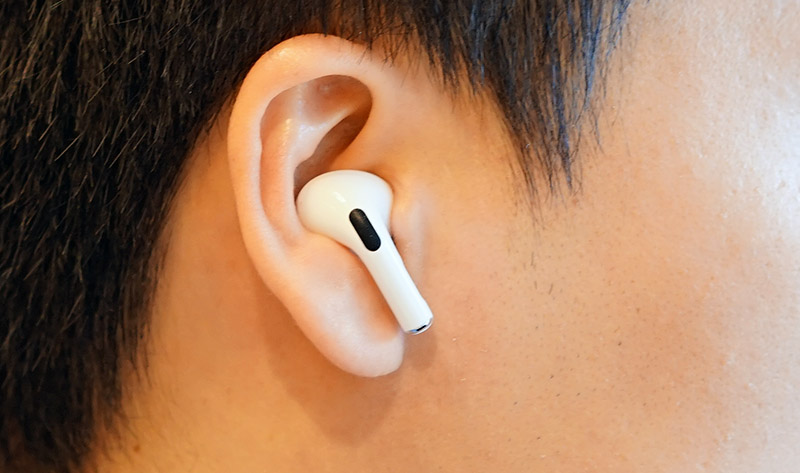earphone: (229, 33, 436, 379)
